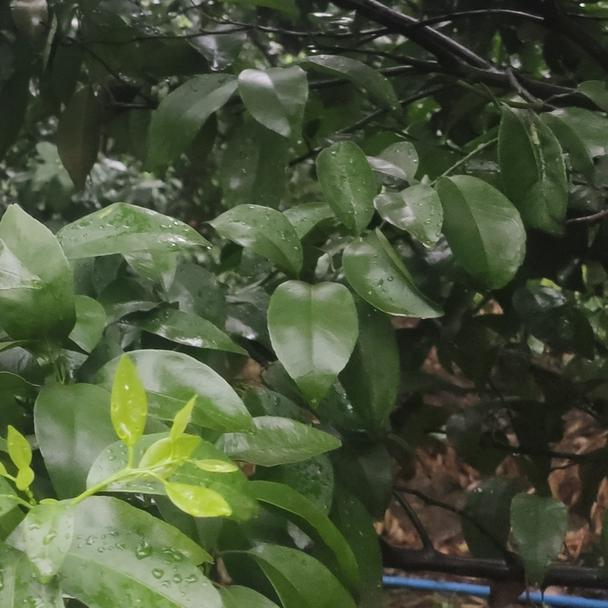shoot: (90, 359, 223, 523)
